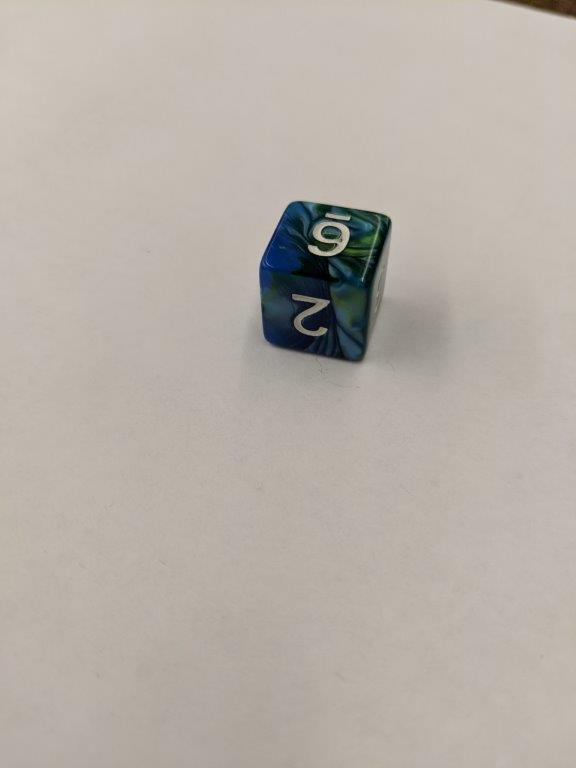d6-6: (259, 199, 395, 363)
